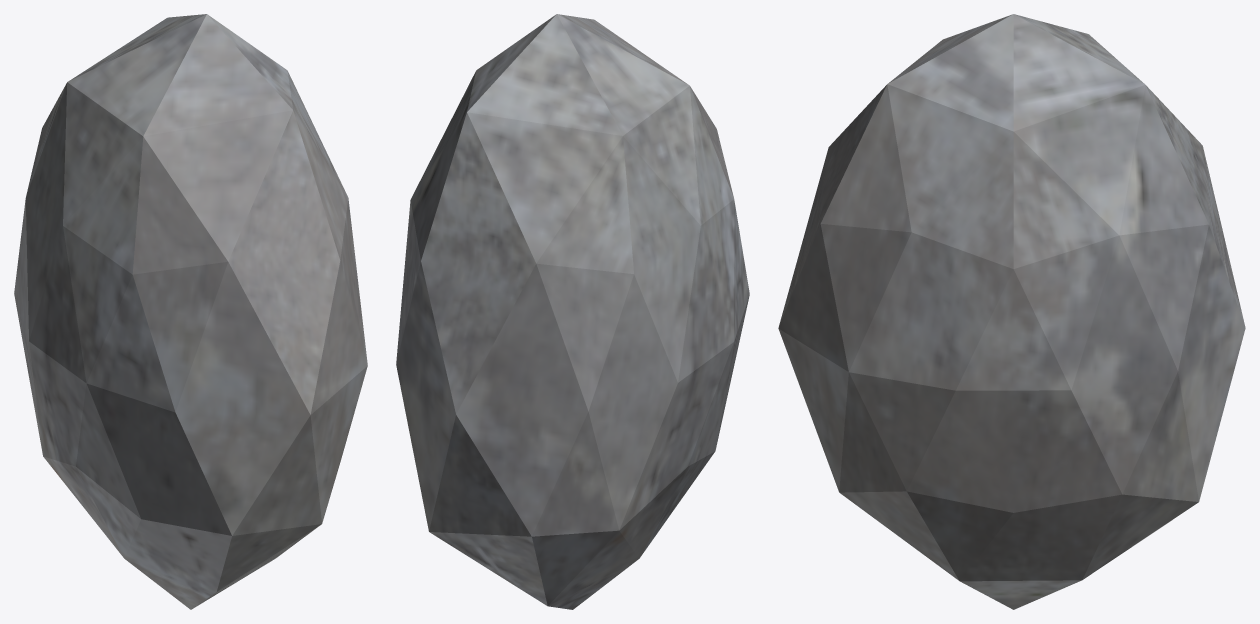
File: mg_12_crystal_0.fbx
The picture shows the model from 3 angles, left to right: view 1: azimuth 30°, elevation 25°; view 2: azimuth 150°, elevation 25°; view 3: azimuth 270°, elevation 25°; orthographic projection. The views are drawn at different scales.
Visible parts, largest first — view 1: mg_12_crystal_0; view 2: mg_12_crystal_0; view 3: mg_12_crystal_0.
Boxes of the visible parts, <box> form: mg_12_crystal_0: <box>14,14,367,609</box>; mg_12_crystal_0: <box>396,14,749,609</box>; mg_12_crystal_0: <box>778,14,1245,609</box>.
Bounding box in the file's own units: 8.81 × 18.68 × 13.1.
